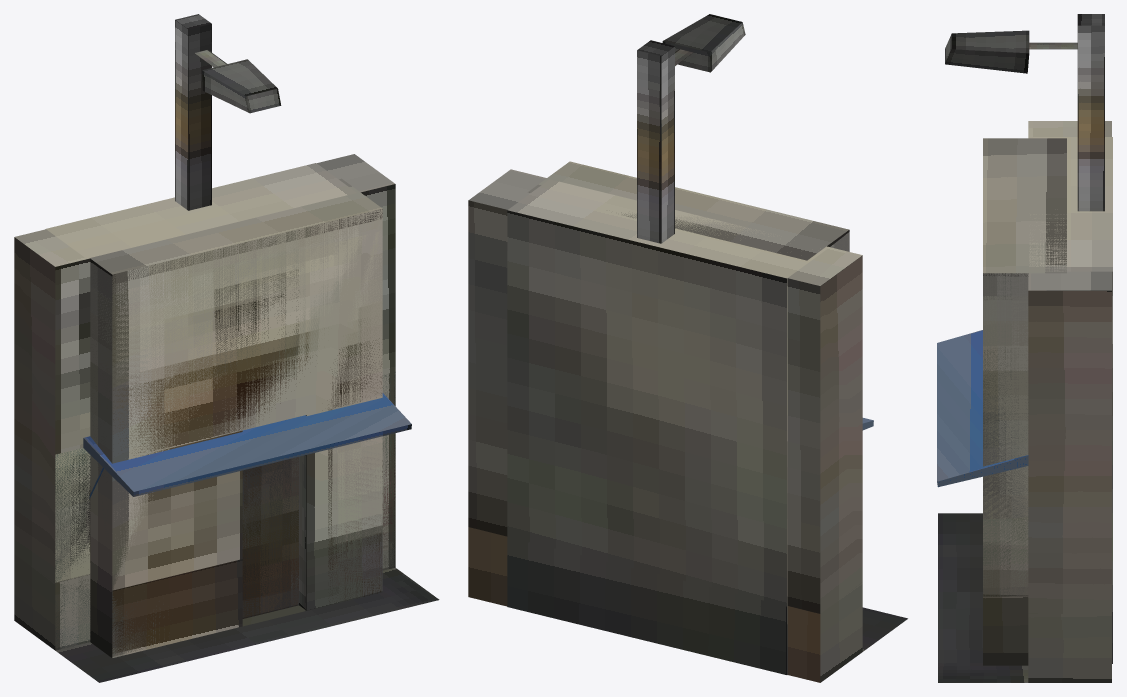
File: pack_japanes_city.glb
3 views of the same model, side by side, from view 1: azimuth 30°, elevation 25°; view 2: azimuth 150°, elevation 25°; view 3: azimuth 270°, elevation 25° (orthographic). The views are drawn at different scales.
Visible parts, largest first — view 1: jp_wall2, jp_wall3, jp_wall5, jp_wall1, jp_lamp, jp_wall6; view 2: jp_wall1, jp_wall5, jp_lamp, jp_wall2; view 3: jp_wall5, jp_wall2, jp_wall1, jp_wall3, jp_lamp.
Part boxes in pixels (box(x1,y1,x2,y2)): jp_wall2: box(90, 178, 382, 657); jp_wall3: box(90, 209, 382, 657); jp_wall5: box(14, 154, 439, 682); jp_wall1: box(46, 163, 411, 498); jp_lamp: box(175, 14, 281, 210); jp_wall6: box(55, 371, 395, 650); jp_wall1: box(507, 179, 873, 674); jp_wall5: box(468, 169, 907, 682); jp_lamp: box(637, 14, 745, 243); jp_wall2: box(527, 161, 849, 260); jp_wall5: box(938, 121, 1111, 682); jp_wall2: box(983, 138, 1066, 665); jp_wall1: box(937, 137, 1112, 663); jp_wall3: box(983, 273, 1028, 596); jp_lamp: box(945, 14, 1104, 211).
Bounding box in the file's own units: 4.93 × 7.83 × 2.16.
1 material, 1 textured.
